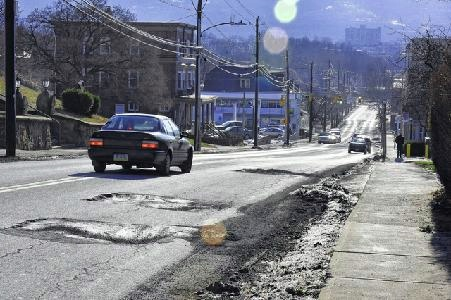pothole: (3, 214, 171, 243), (82, 190, 198, 211), (232, 166, 296, 174)
